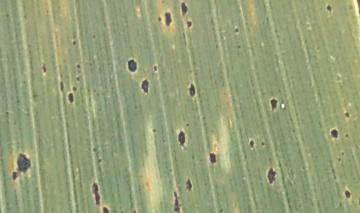tarspot: (16, 152, 32, 173), (91, 182, 101, 206), (267, 167, 277, 185), (163, 10, 173, 26), (140, 78, 149, 94), (187, 82, 196, 98), (127, 58, 137, 72), (207, 150, 217, 164), (173, 191, 179, 213), (178, 131, 186, 145), (270, 98, 278, 112), (329, 127, 338, 139), (181, 1, 188, 16), (186, 178, 193, 192), (66, 92, 74, 104), (11, 170, 18, 181), (344, 189, 351, 199), (59, 80, 65, 91), (185, 19, 192, 28), (249, 139, 255, 149), (326, 3, 332, 13), (344, 109, 350, 119), (152, 63, 158, 72), (42, 63, 47, 73), (75, 62, 81, 69), (71, 39, 77, 46), (91, 32, 97, 39), (103, 206, 109, 213), (260, 139, 265, 147), (338, 200, 343, 208), (92, 146, 98, 152), (151, 127, 157, 133), (236, 43, 242, 49), (157, 15, 162, 22), (234, 26, 239, 33), (340, 150, 345, 157), (72, 85, 77, 91), (75, 76, 81, 81), (97, 157, 102, 163), (185, 121, 190, 127), (190, 154, 195, 160), (219, 207, 224, 213), (344, 133, 350, 138), (337, 156, 342, 162), (118, 210, 124, 213), (133, 209, 137, 213)
